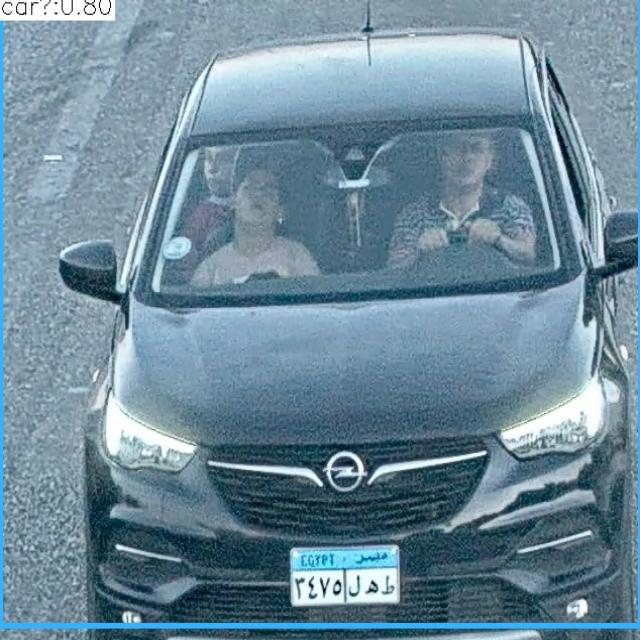windshield: (146, 118, 562, 286)
